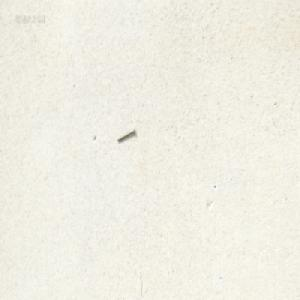Bolt: (116, 127, 135, 142)
